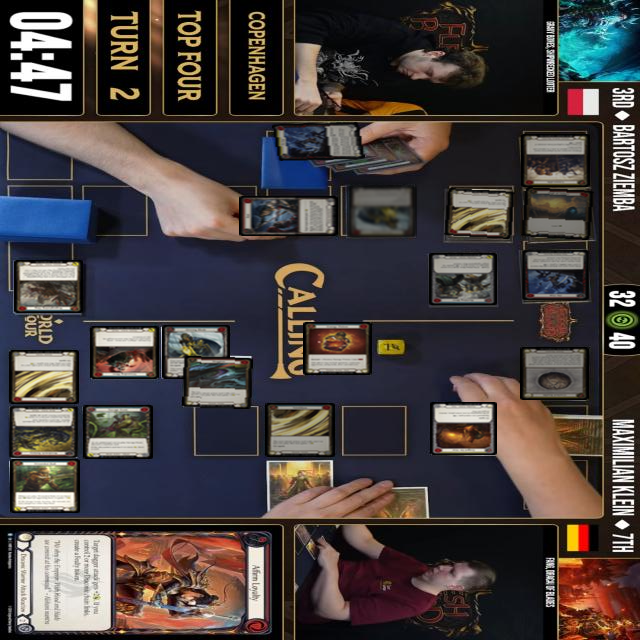Breakneck_Battery_WTR011: (8, 405, 79, 459)
Buckling_Blow_WTR059: (428, 253, 497, 306)
Cracked_Bauble_WTR224: (519, 348, 589, 401)
Driving_Blade_WTR145: (346, 185, 417, 238)
Driving_Blade_WTR146: (161, 326, 229, 380)
Energy_Potion_WTR170: (302, 322, 372, 375)
Flic_Flak_WTR092: (520, 249, 590, 302)
Flic_Flak_WTR093: (272, 123, 365, 161)
Forged_for_War_WTR046: (429, 403, 497, 456)
Nimblism_WTR218: (8, 350, 78, 404), (443, 189, 514, 240)
Nimblism_WTR220: (264, 403, 334, 457)
Regurgitating_Slog_WTR199: (13, 260, 82, 313)
Rout_WTR120: (239, 196, 338, 236)
Savage_Feast_WTR016: (82, 405, 152, 459)
Sigil_of_Solace_WTR173: (521, 188, 594, 240)
Sloggism_WTR221: (182, 356, 253, 409)
Unmovable_WTR213: (520, 135, 590, 188)
Wounded_Bull_WTR202: (9, 459, 79, 514)
Wounding_Blow_WTR205: (89, 326, 158, 379)
